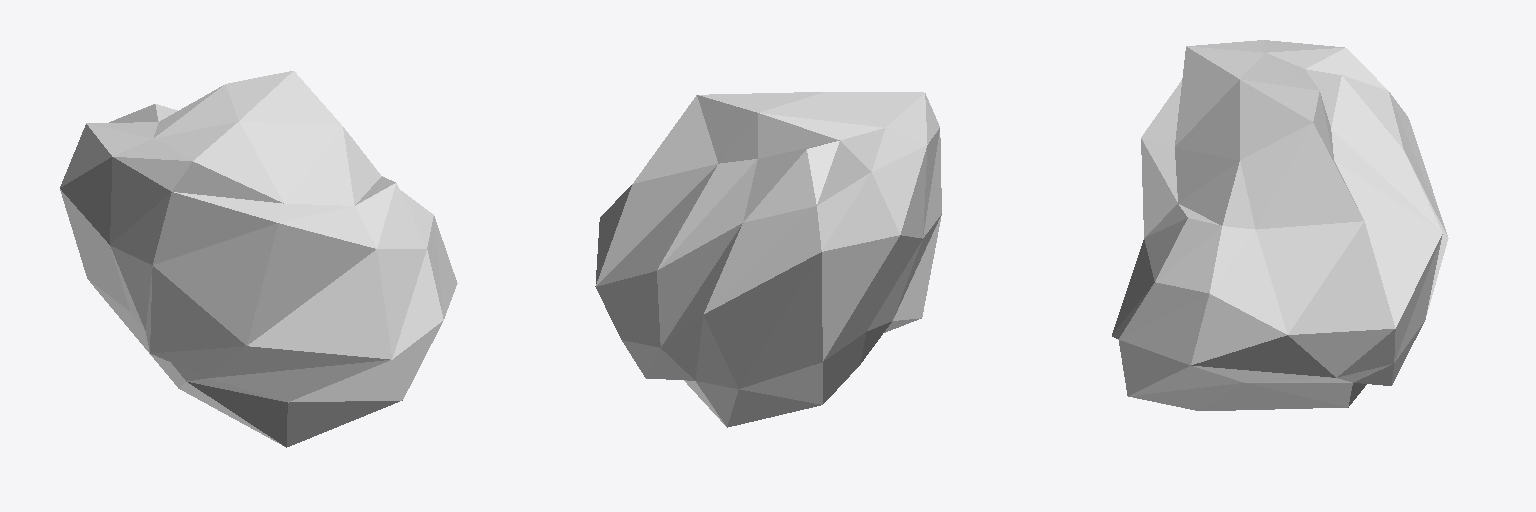
The model's file is Asteroid3.obj.
The picture shows the model from 3 angles: view 1: azimuth 30°, elevation 25°; view 2: azimuth 150°, elevation 25°; view 3: azimuth 270°, elevation 25°; orthographic projection.
Parts seen in each view (by area): view 1: Asteroid3; view 2: Asteroid3; view 3: Asteroid3.
Boxes of the visible parts, x1,y1,x2,y2 form: Asteroid3: [60, 71, 457, 447]; Asteroid3: [595, 92, 941, 427]; Asteroid3: [1112, 40, 1448, 410].
Size of the model in its own units: 1.87 by 1.74 by 1.66.